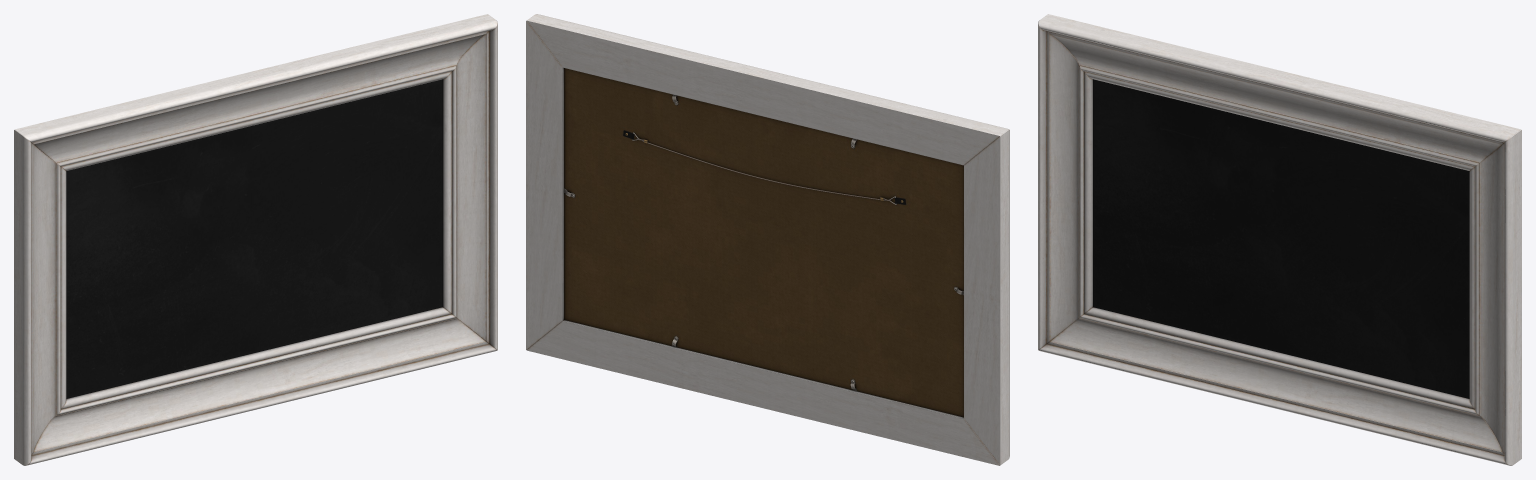
Rendered from hanging_picture_frame_02.gltf.
3 views of the same model, side by side, from view 1: azimuth 30°, elevation 25°; view 2: azimuth 150°, elevation 25°; view 3: azimuth 330°, elevation 25° (orthographic).
Visible parts, largest first — view 1: hanging_picture_frame_02; view 2: hanging_picture_frame_02; view 3: hanging_picture_frame_02.
Part boxes in pixels (x1,y1,x2,y2): hanging_picture_frame_02: [14, 14, 497, 465]; hanging_picture_frame_02: [526, 14, 1009, 465]; hanging_picture_frame_02: [1038, 14, 1521, 465].
Size of the model in its own units: 0.7518 by 0.5 by 0.0331.
3 materials, 3 textured.
